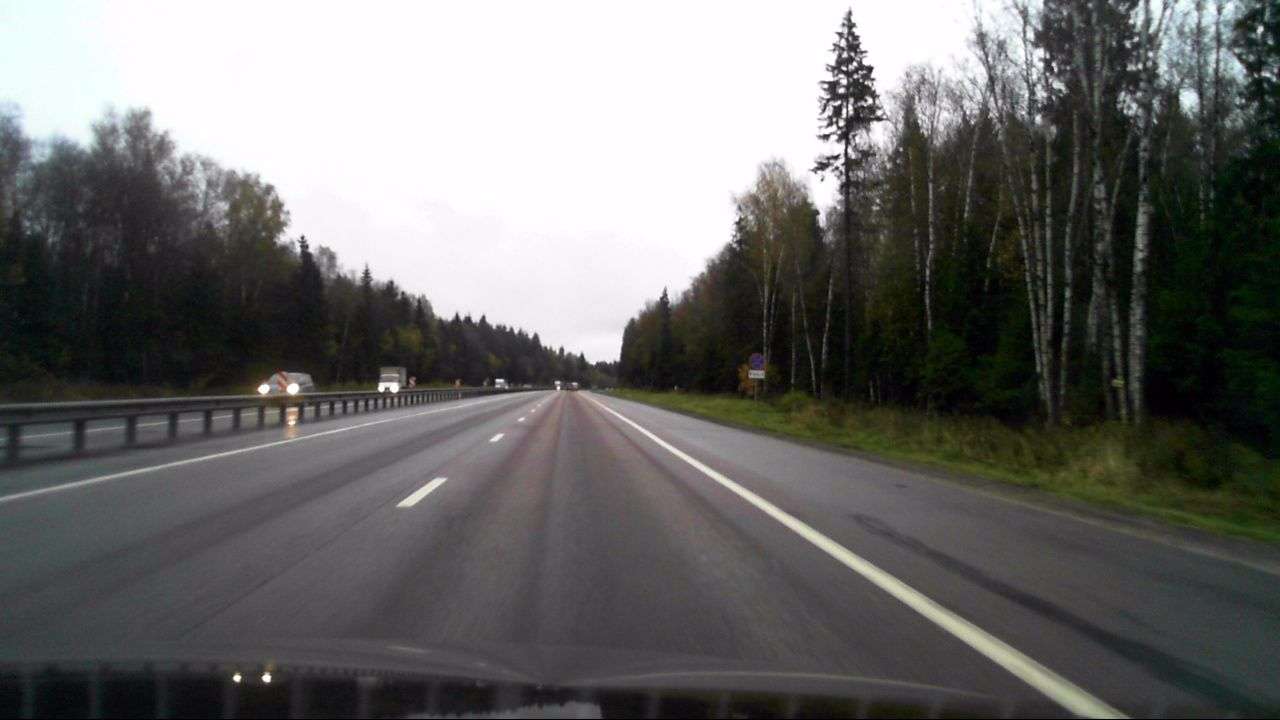No Parking: (749, 352, 765, 369)
